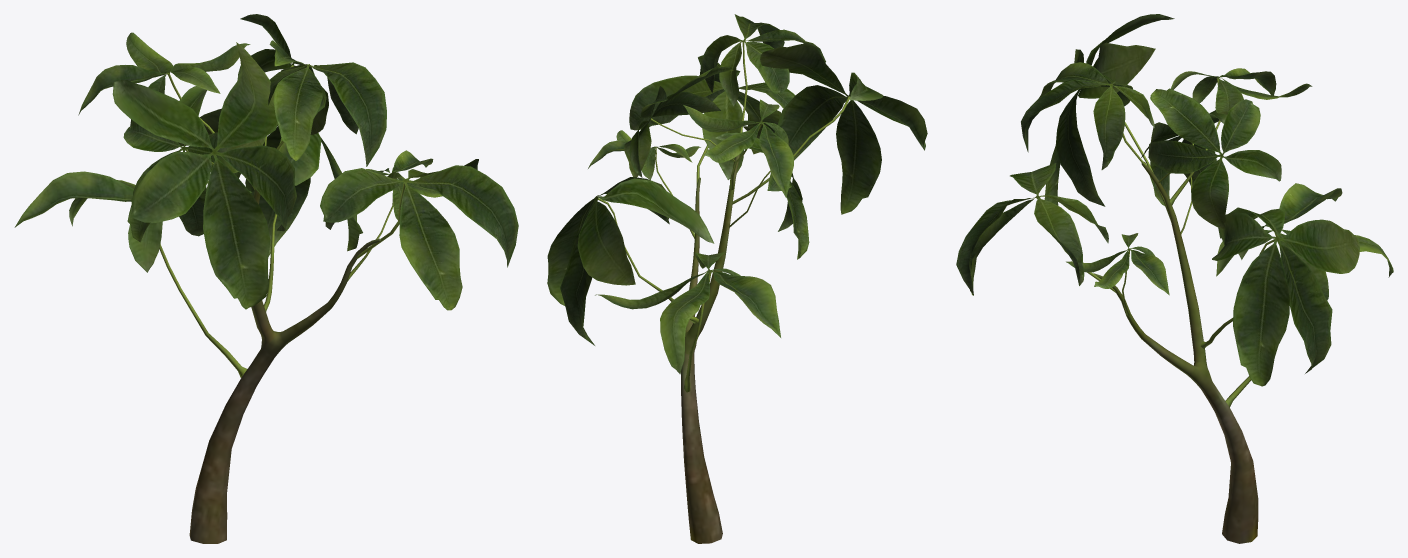
File: pachira_aquatica_01_b.gltf
The picture shows the model from 3 angles, left to right: view 1: azimuth 30°, elevation 25°; view 2: azimuth 150°, elevation 25°; view 3: azimuth 270°, elevation 25°; orthographic projection. The views are drawn at different scales.
Visible parts, largest first — view 1: pachira_aquatica_01_leaves_b, pachira_aquatica_01_bark_b; view 2: pachira_aquatica_01_leaves_b, pachira_aquatica_01_bark_b; view 3: pachira_aquatica_01_leaves_b, pachira_aquatica_01_bark_b.
Part boxes in pixels (box(x1,y1,x2,y2)): pachira_aquatica_01_leaves_b: box(14, 14, 518, 377); pachira_aquatica_01_bark_b: box(189, 189, 380, 543); pachira_aquatica_01_leaves_b: box(547, 14, 927, 392); pachira_aquatica_01_bark_b: box(681, 154, 739, 543); pachira_aquatica_01_leaves_b: box(956, 14, 1393, 407); pachira_aquatica_01_bark_b: box(1093, 161, 1258, 543).
Size of the model in its own units: 0.5031 by 0.735 by 0.6074.
Materials: 2 (2 with a texture image).
